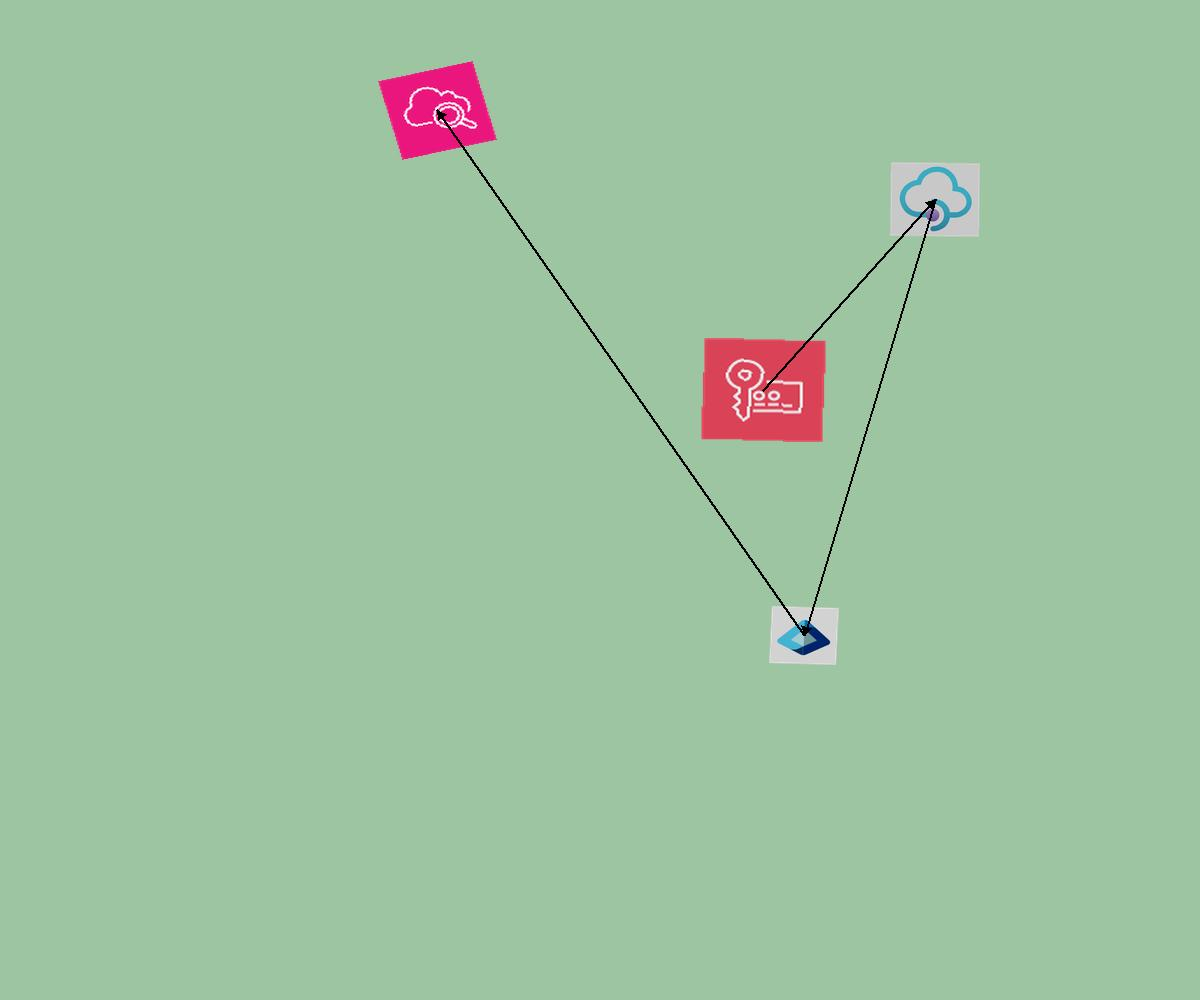AWS-CloudWatch: (378, 61, 497, 160)
AWS-Key-Management-Service: (700, 337, 827, 443)
Azure_api_gateway: (890, 162, 980, 237)
Azure_microsoft_entra: (769, 606, 839, 665)
